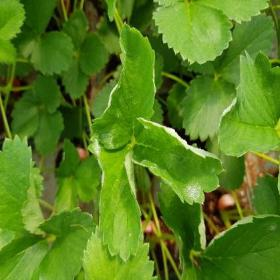Powdery Mildew Leaf: (130, 117, 226, 206), (90, 21, 156, 150), (88, 133, 143, 263), (216, 49, 279, 158), (193, 214, 279, 279)
